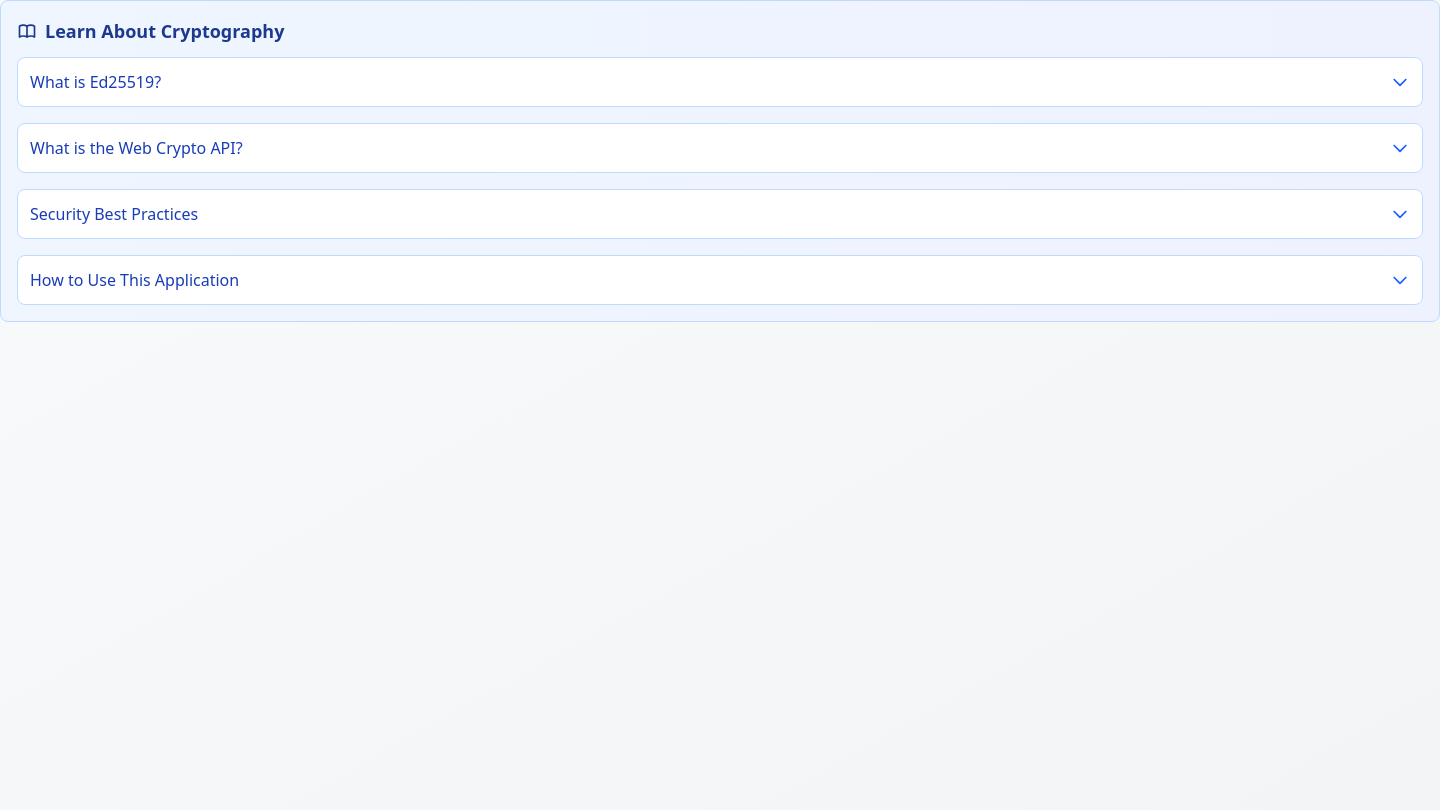
Test: EducationalContent › should expand and collapse sections when clicked
The width and height of the screenshot is (1440, 810).
Expected: the text "High Security:" is not shown
// Click to expand
Click the button "What is Ed25519?" at (96, 82), box [17,57,1423,107]
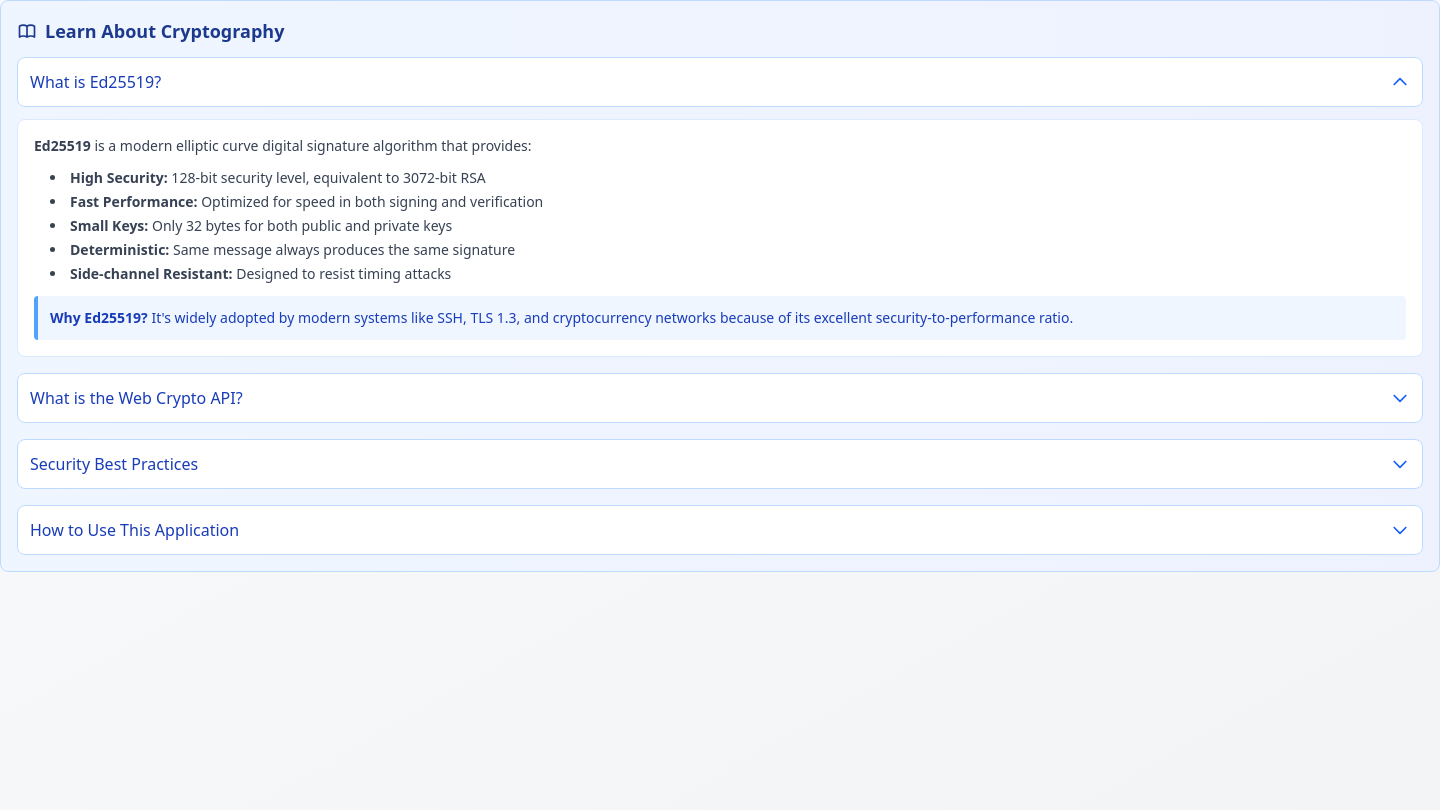
Result: the text "High Security:" is shown at [70,168,168,187]
// Click to collapse
Click the button "What is Ed25519?" at (96, 82), box [17,57,1423,107]
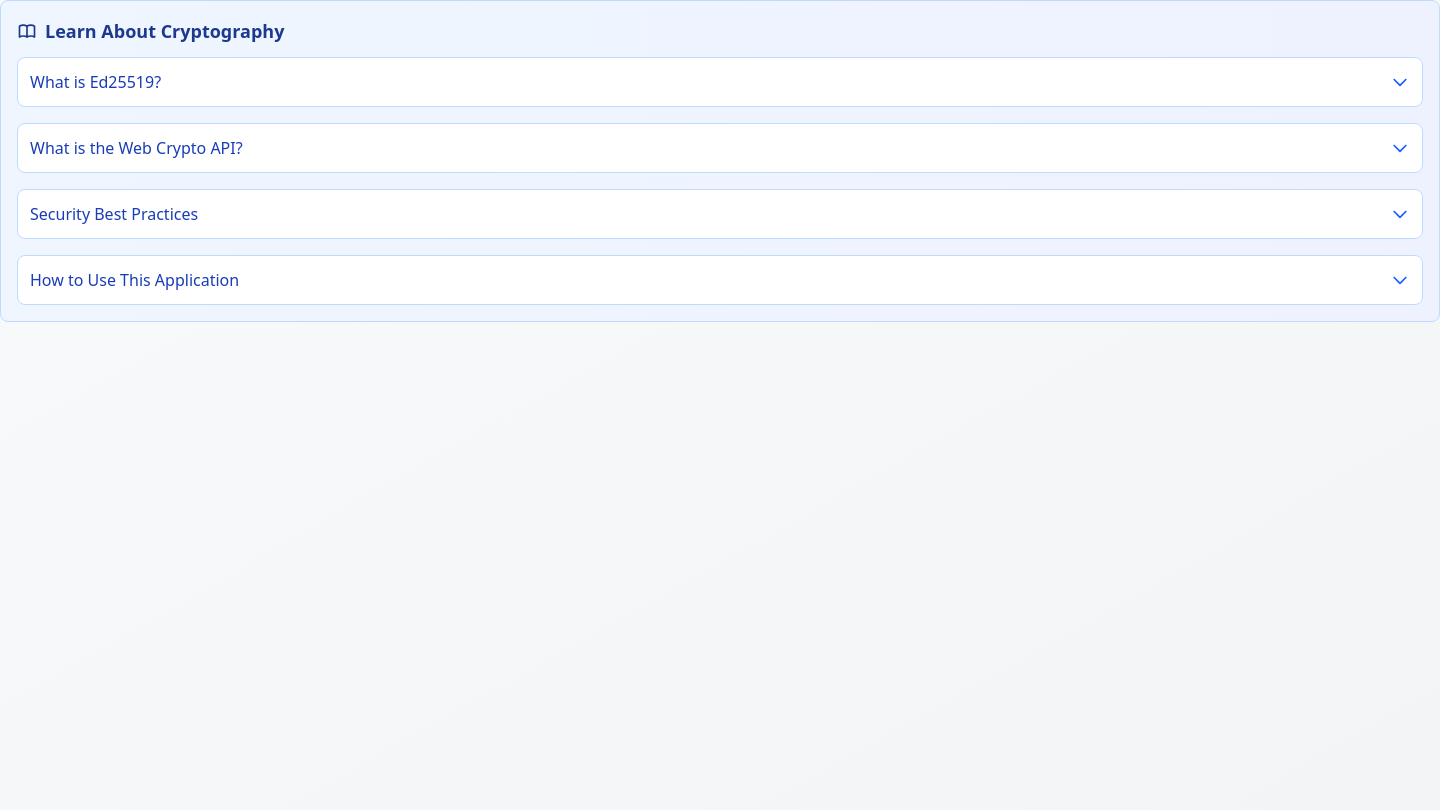
Result: the text "High Security:" is gone
